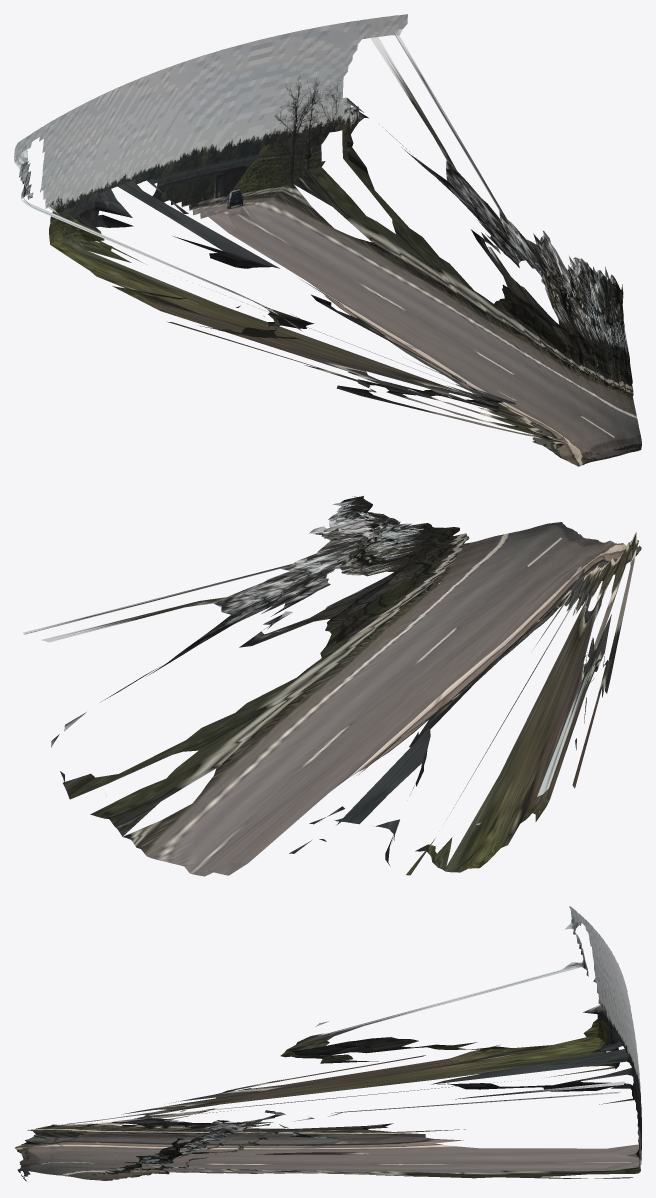
The picture shows the model from 3 angles, top to bottom: view 1: azimuth 30°, elevation 25°; view 2: azimuth 150°, elevation 25°; view 3: azimuth 270°, elevation 25°; orthographic projection. The views are drawn at different scales.
Visible parts, largest first — view 1: defaultobject; view 2: defaultobject; view 3: defaultobject.
Part boxes in pixels (x1,y1,x2,y2): defaultobject: (14,14,641,466); defaultobject: (23,496,641,876); defaultobject: (14,906,641,1181).
Size of the model in its own units: 30.37 by 12.09 by 44.62.
Materials: 1 (1 with a texture image).
